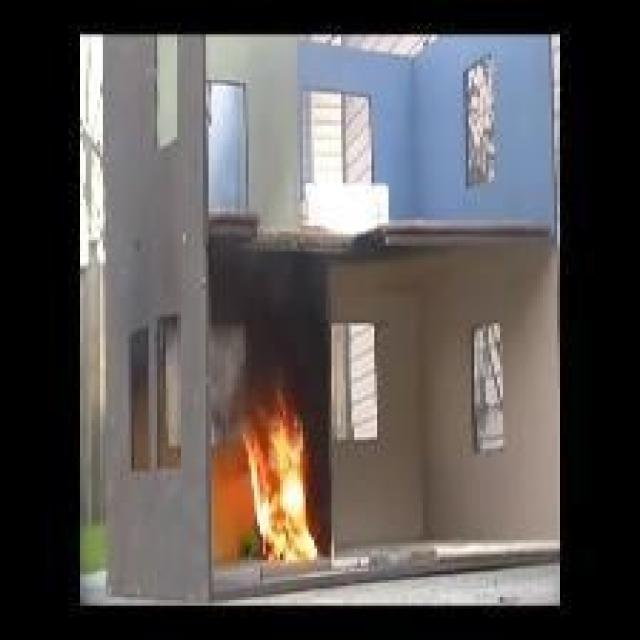fire: (226, 410, 326, 579)
